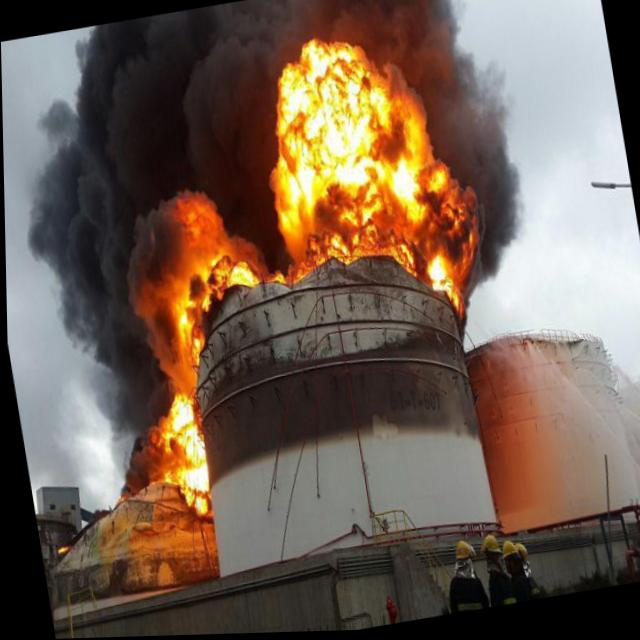fire: (236, 2, 504, 371), (137, 175, 273, 361), (132, 369, 217, 534)
